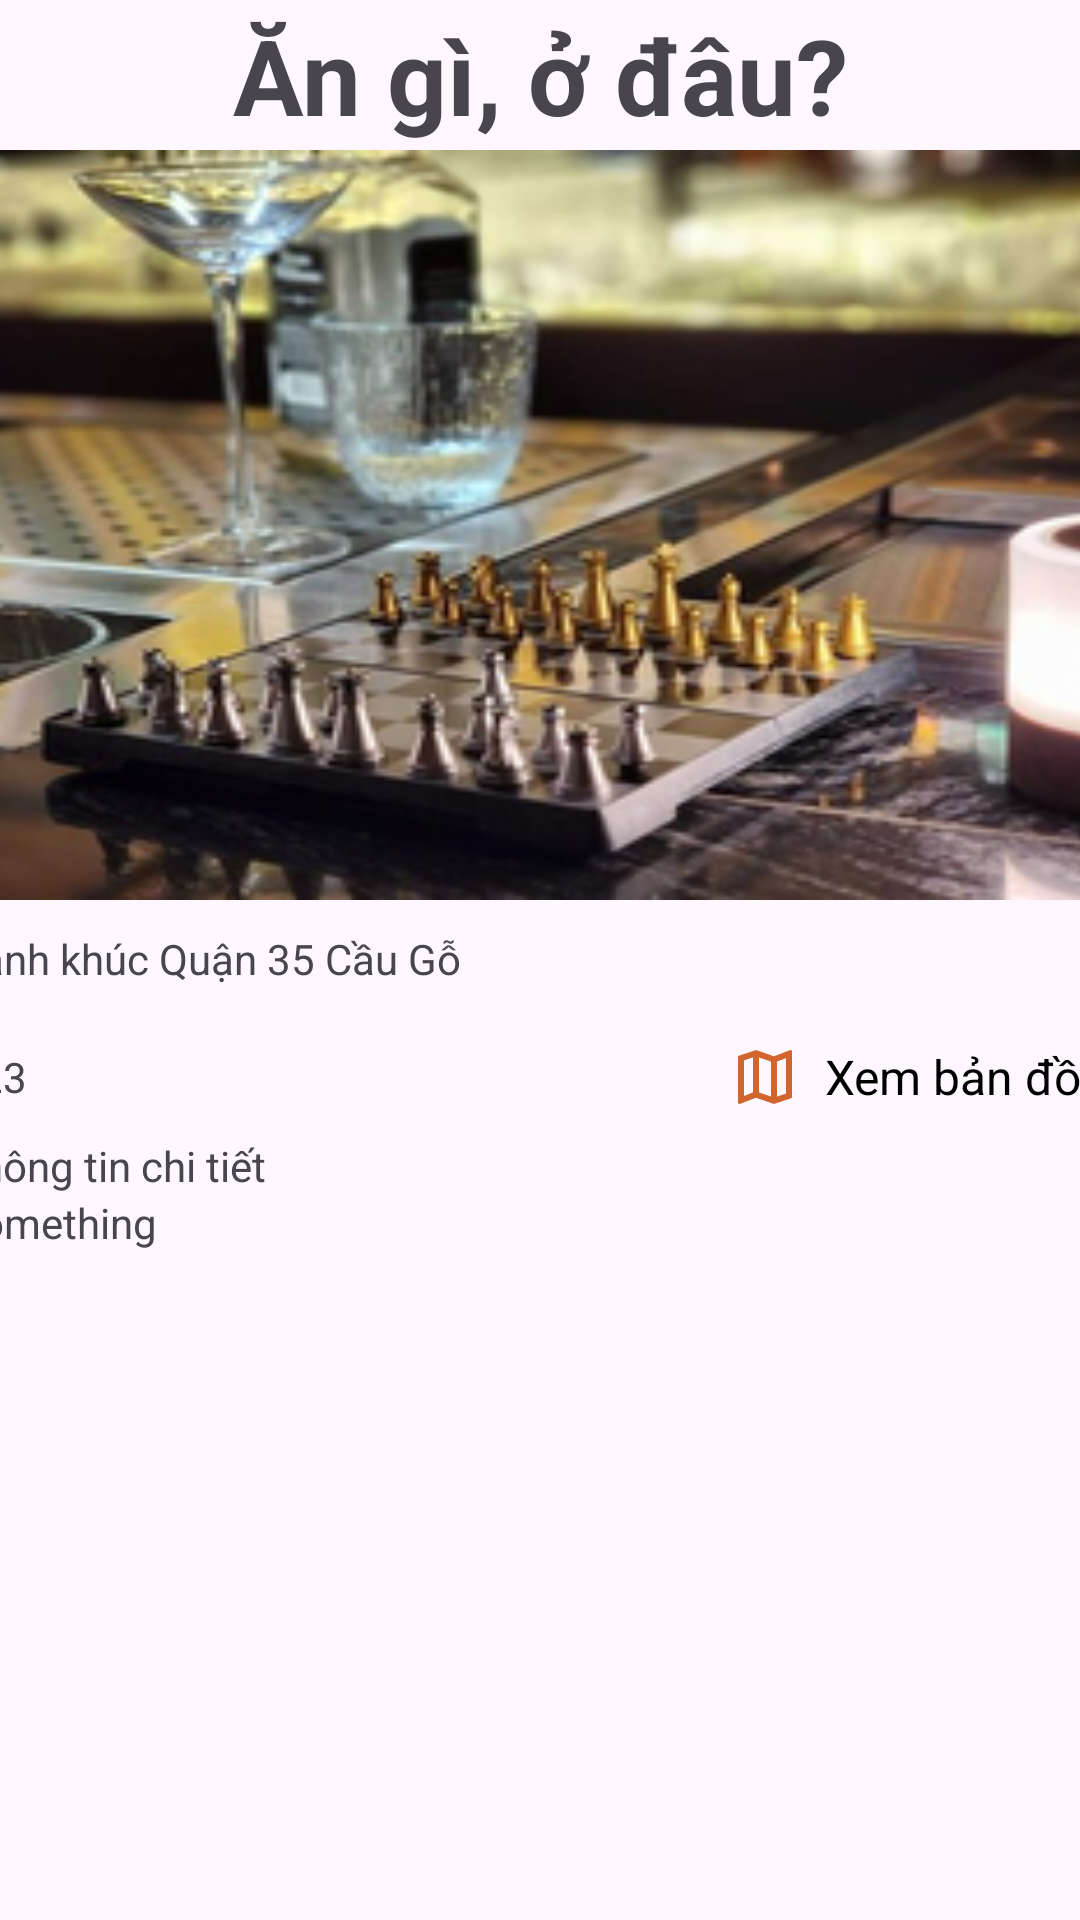

Named icons in this screenshot (1080x1920) and their bounding boxes, (x1, y1, x2, y2):
map: (738, 1050, 792, 1104)
